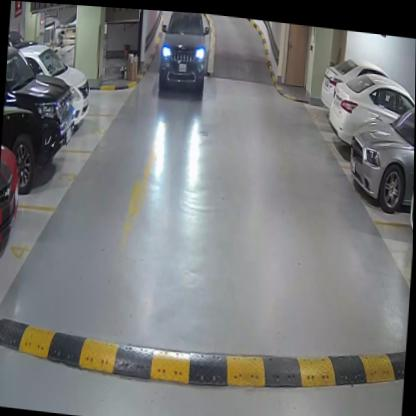np: (179, 59, 187, 71)
